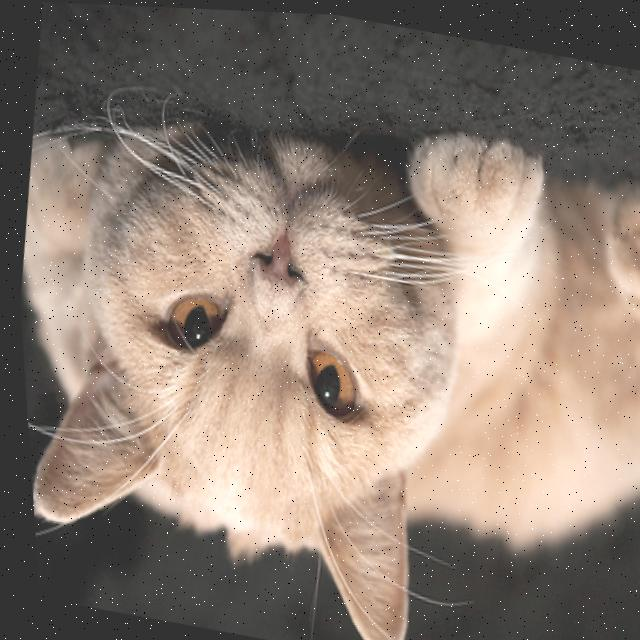British Shorthair: (2, 43, 640, 640)
